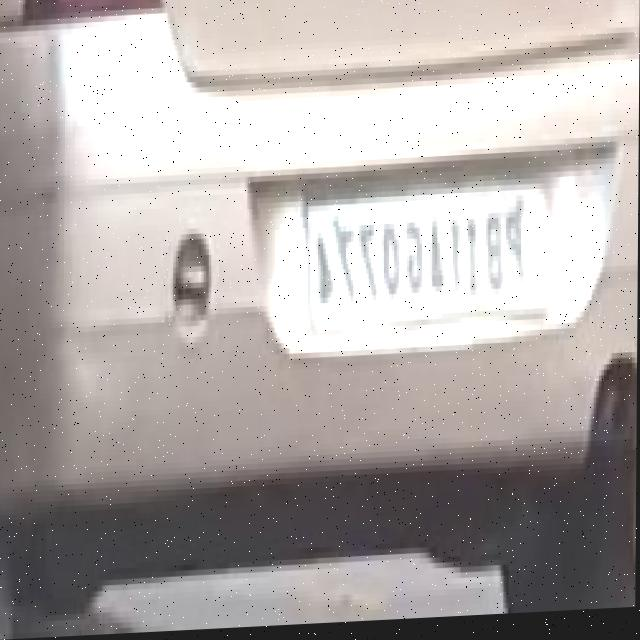plate: (305, 184, 553, 350)
